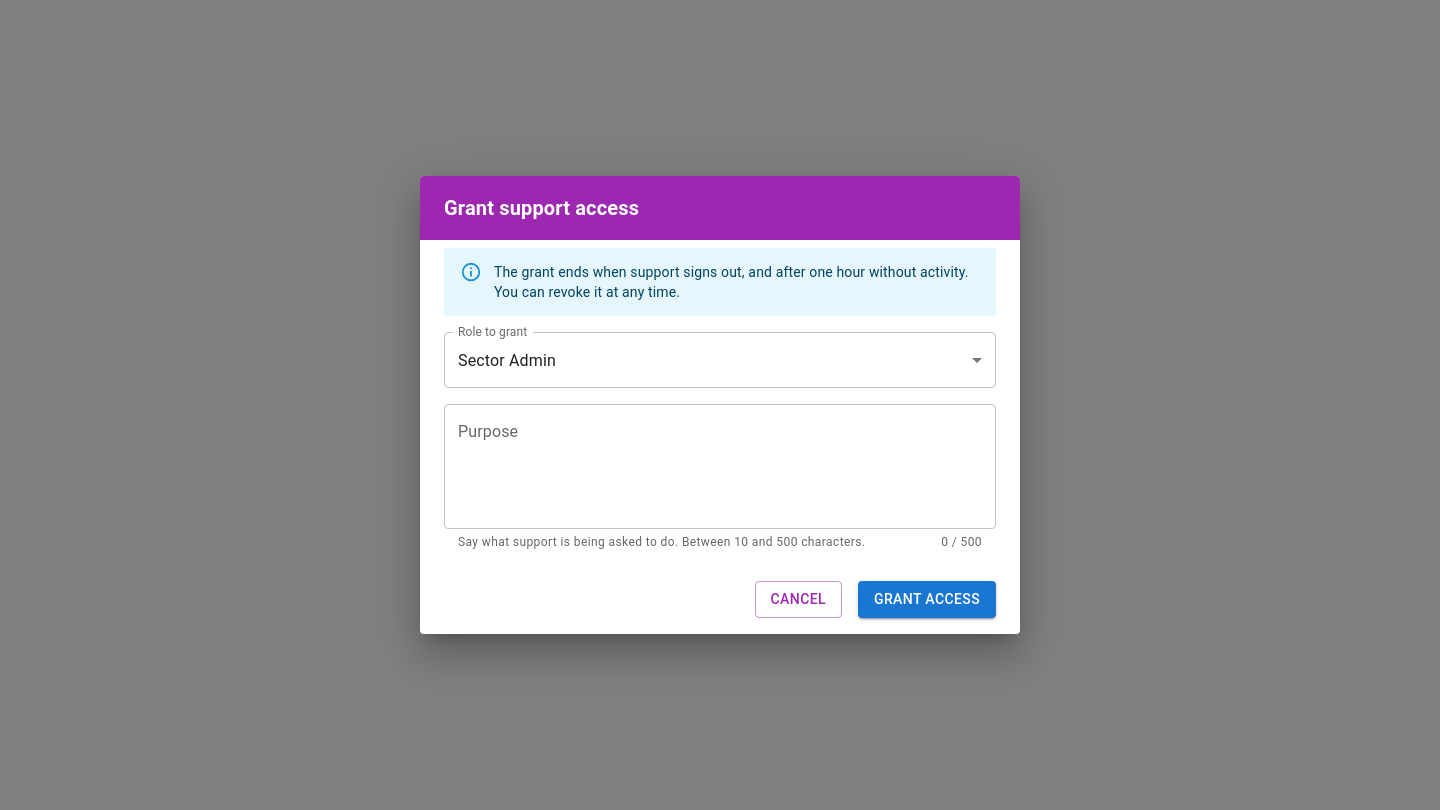
Test: GrantAccessDialog › should block submit when purpose is shorter than 10 characters
Type "too short" into the text box labelled "Purpose" at coordinates (720, 467), box [458,421,982,513]
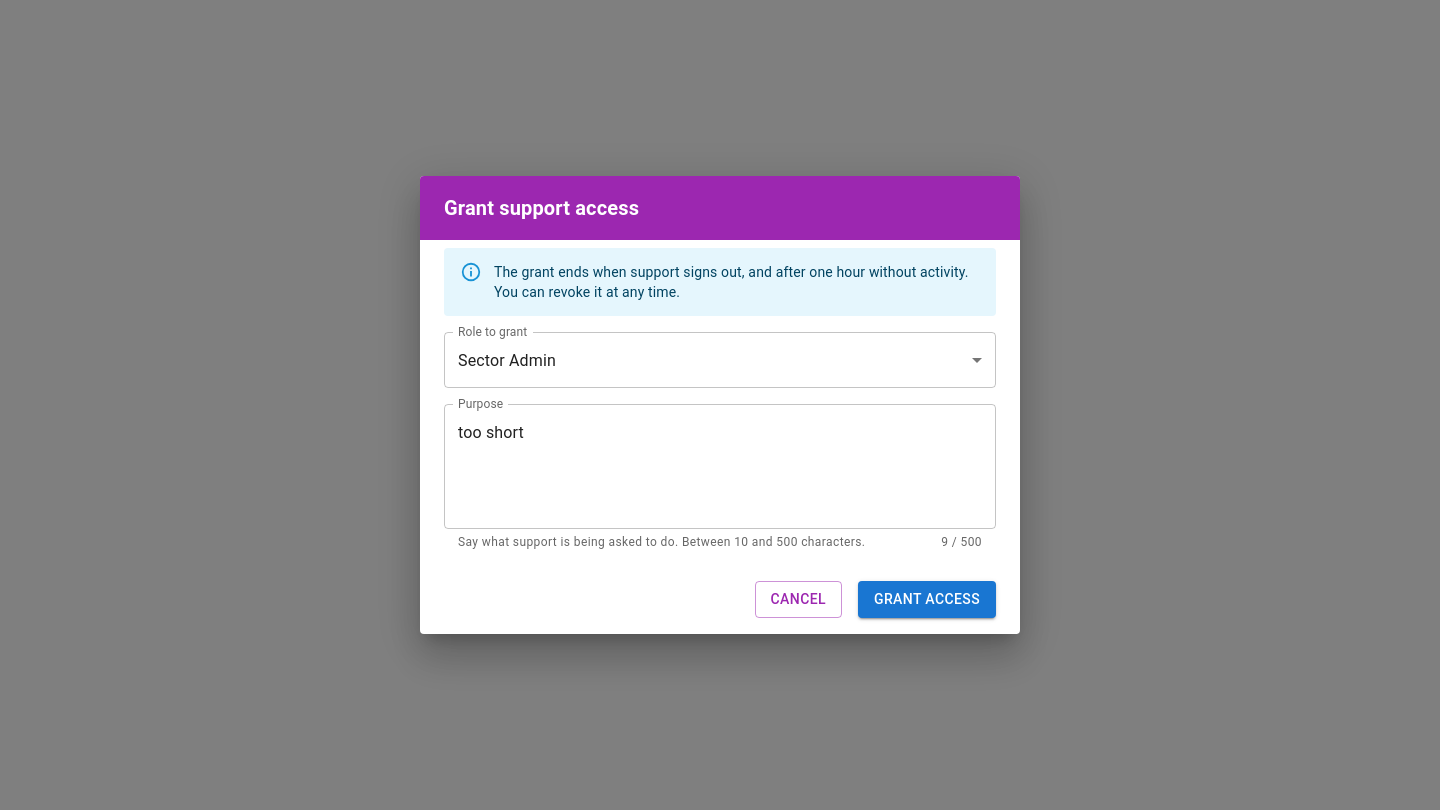
Click the button "Grant access" at coordinates (927, 599), box [858,581,996,618]
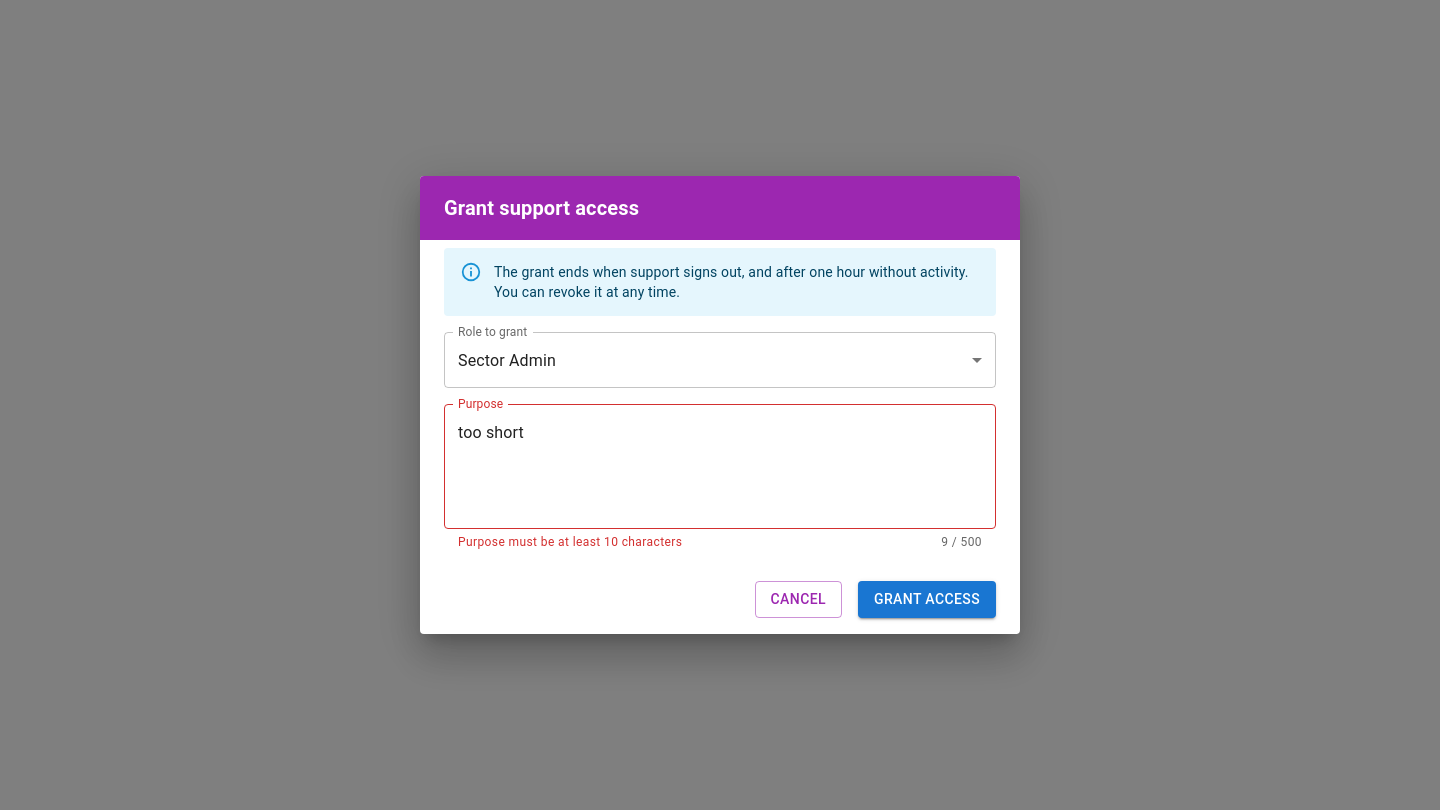
Now the text "Purpose must be at least 10 characters" is shown, box [458,533,682,553]
